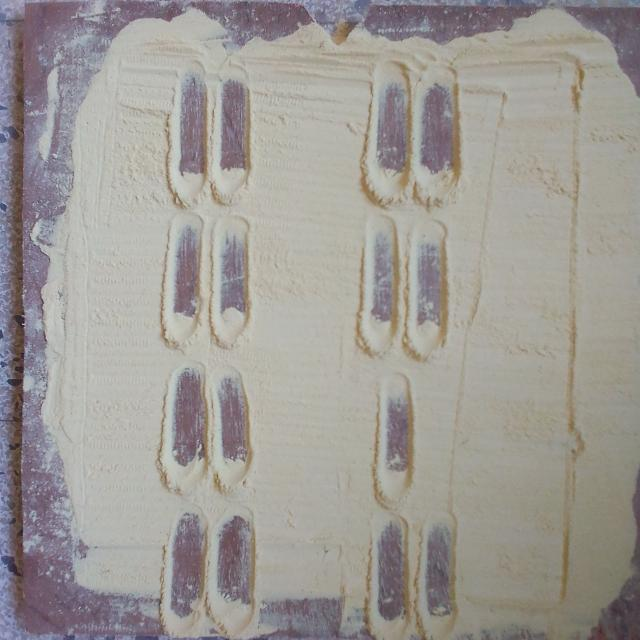double: (356, 220, 452, 335), (366, 509, 456, 621), (373, 77, 468, 178), (171, 67, 257, 172), (163, 220, 252, 317), (171, 514, 254, 611), (171, 360, 242, 464)
single: (377, 367, 418, 485)
